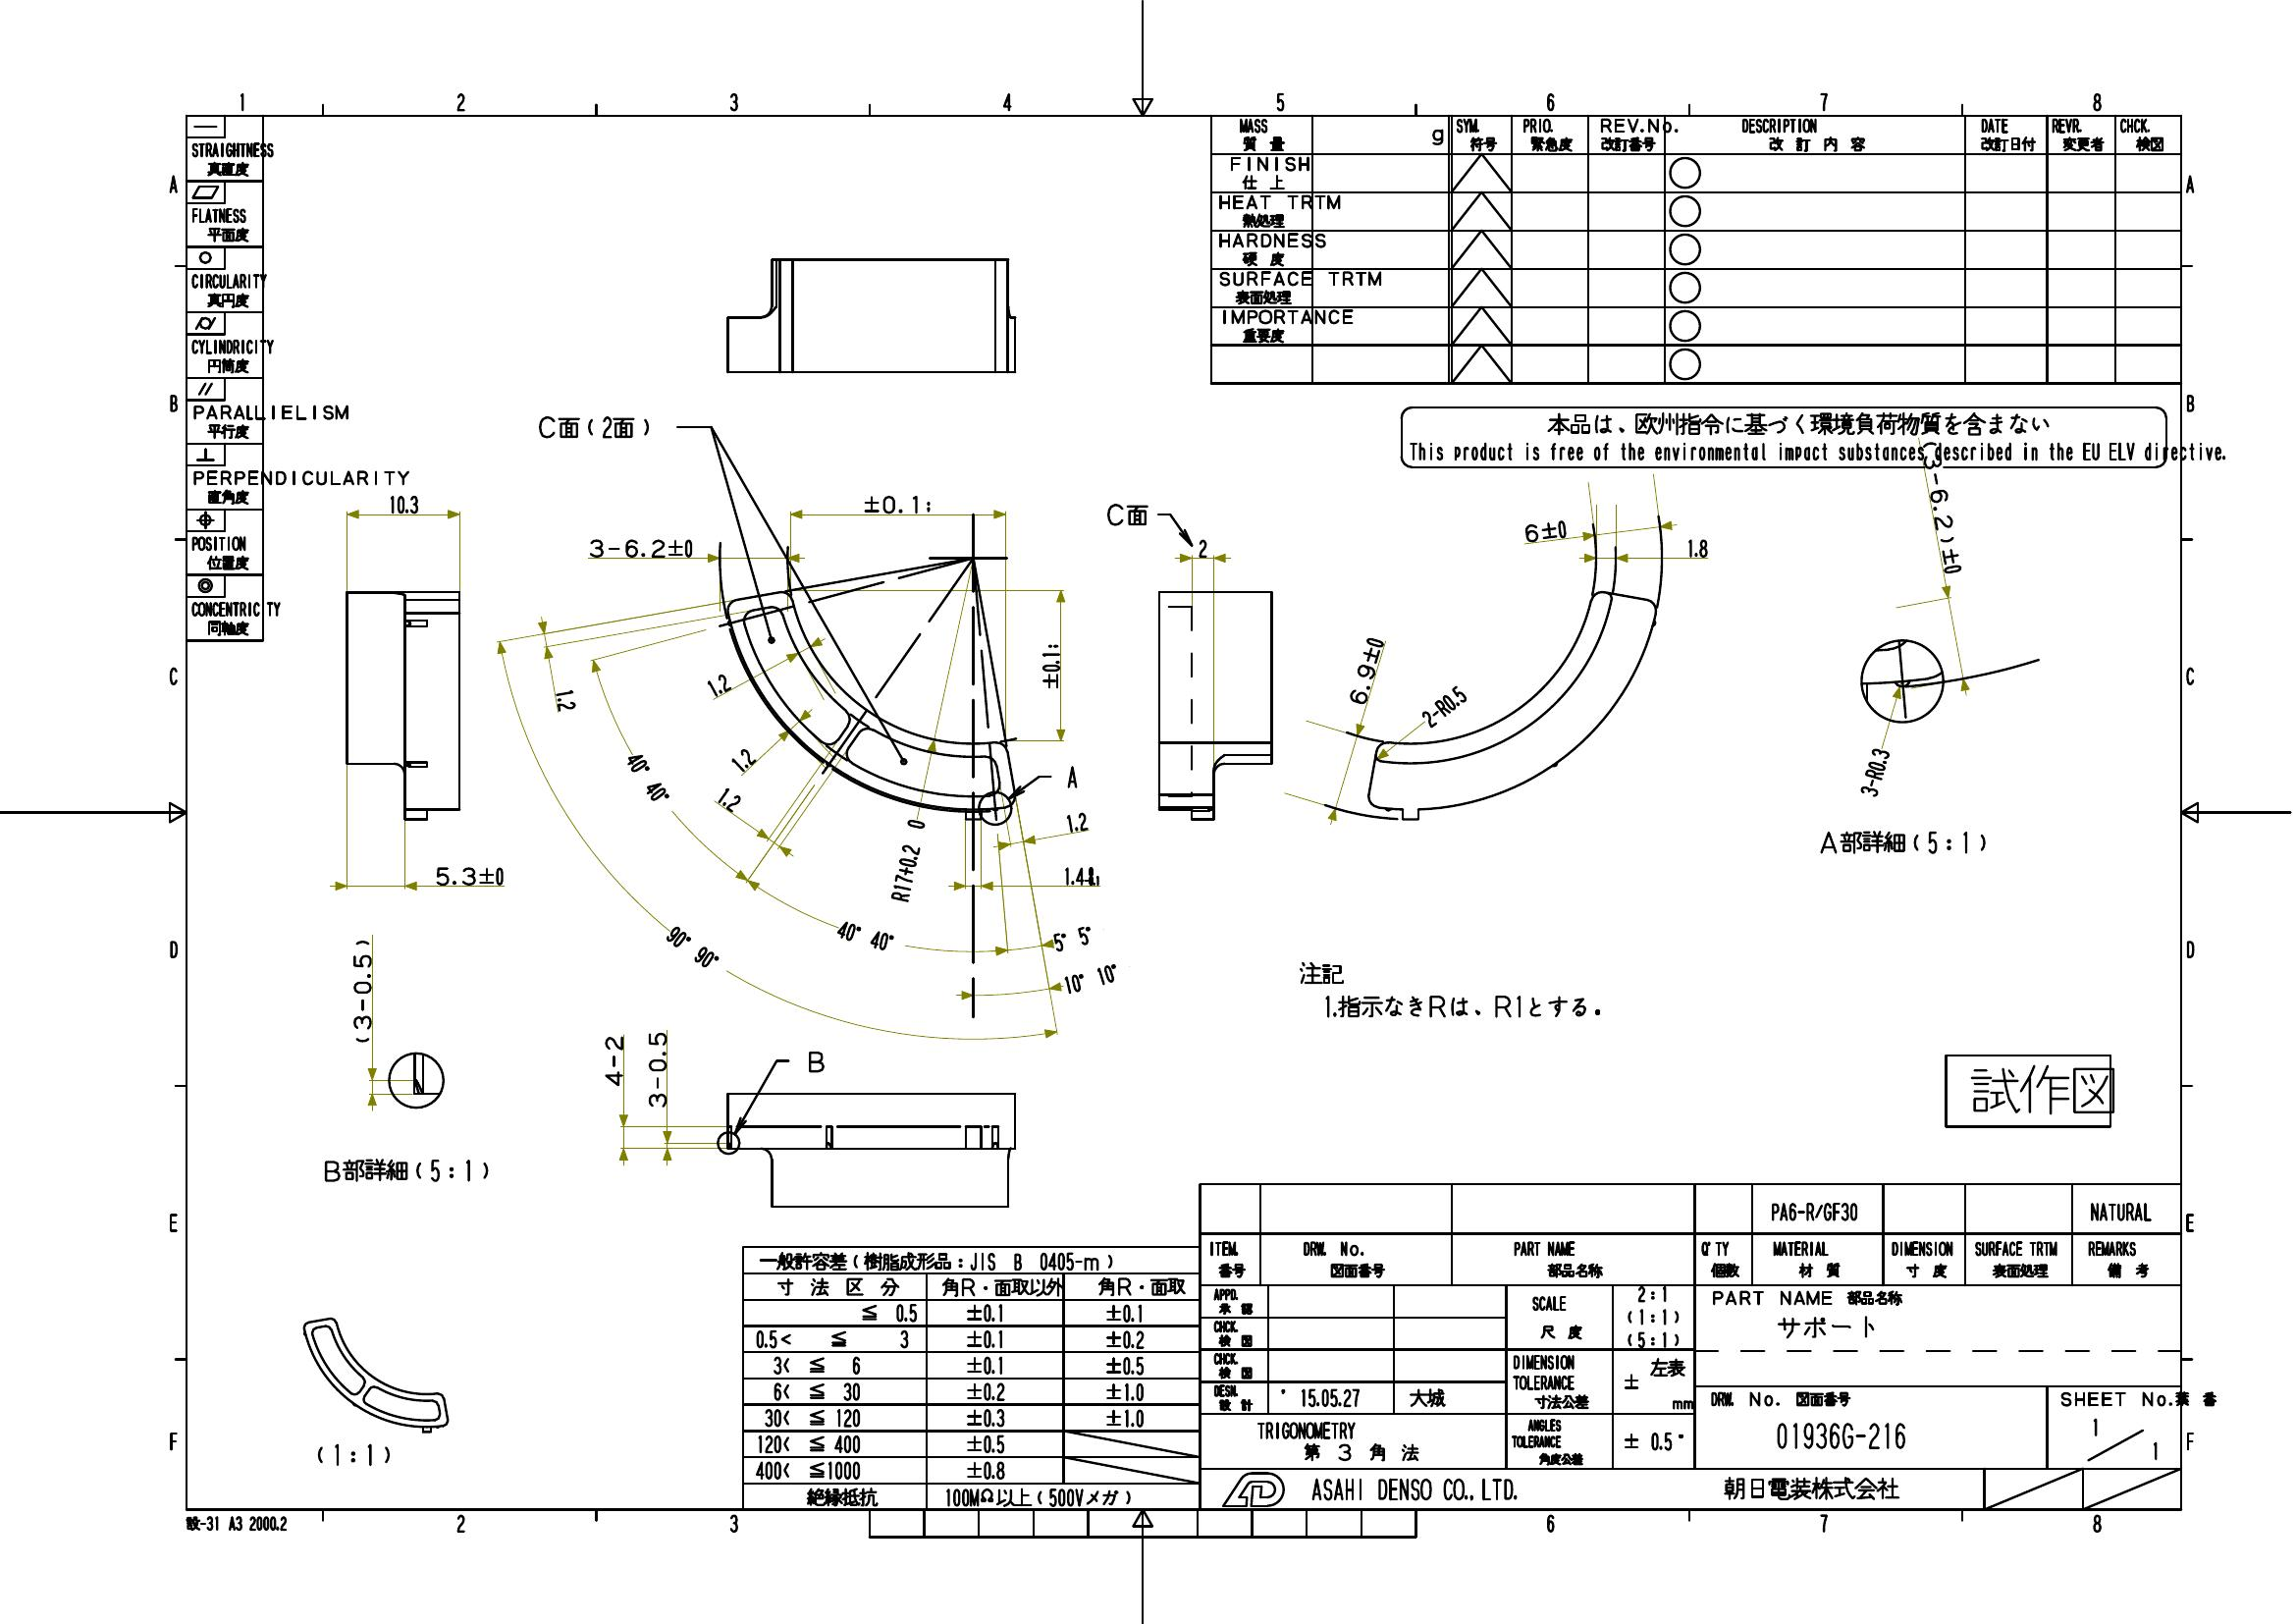anntotation_text: (1400, 404, 2166, 466), (1295, 960, 1606, 1026), (1948, 1053, 2110, 1125), (314, 1148, 499, 1195), (1816, 828, 1994, 858), (534, 411, 653, 441), (186, 1510, 292, 1534), (314, 1441, 393, 1468), (1103, 492, 1154, 531), (803, 1042, 829, 1076), (1063, 763, 1082, 789)
dimension_text: (348, 933, 374, 1048), (587, 534, 696, 561), (1932, 439, 1950, 576), (434, 859, 509, 888), (645, 1028, 669, 1114), (896, 817, 917, 902), (863, 490, 936, 513), (1059, 965, 1123, 991), (834, 924, 898, 949), (661, 935, 727, 958), (617, 768, 682, 791), (1358, 629, 1377, 705), (1516, 517, 1572, 541), (599, 1033, 624, 1090), (1051, 924, 1098, 951), (1040, 642, 1061, 692), (1848, 761, 1901, 780), (1435, 682, 1455, 729), (1063, 865, 1105, 886), (1685, 534, 1711, 561), (386, 496, 422, 515), (555, 685, 580, 710), (1063, 810, 1091, 831), (703, 673, 729, 694), (717, 789, 745, 808), (729, 749, 755, 768), (1196, 536, 1212, 559)
object: (727, 557, 1017, 814), (1367, 591, 1657, 817), (726, 1091, 1015, 1207), (726, 257, 1015, 373), (1156, 591, 1272, 819), (346, 592, 460, 821), (304, 1316, 448, 1432), (1860, 638, 1943, 724), (388, 1053, 444, 1107)
title_block: (745, 1183, 2182, 1510), (1209, 116, 2180, 383), (186, 116, 262, 640)
